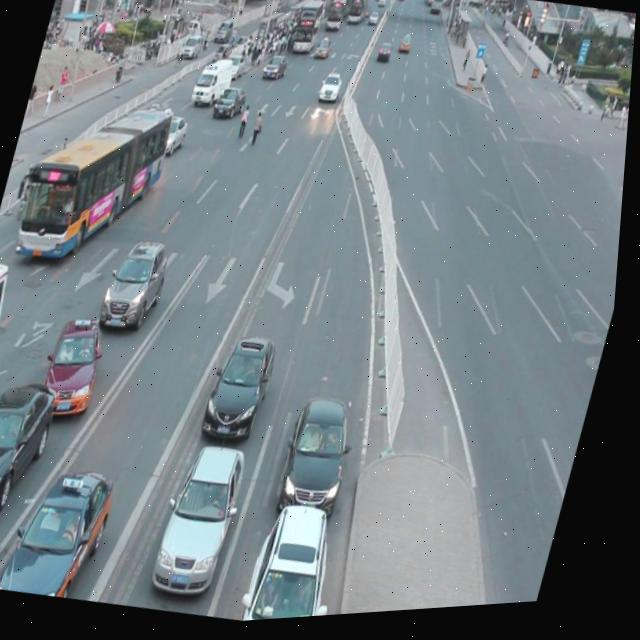car: (2, 452, 129, 608), (155, 435, 261, 604), (248, 496, 359, 625), (279, 391, 372, 528), (0, 369, 68, 524), (204, 329, 288, 449), (41, 311, 118, 425), (99, 232, 180, 338), (158, 114, 192, 160)
van: (16, 90, 178, 277), (0, 257, 24, 457)
